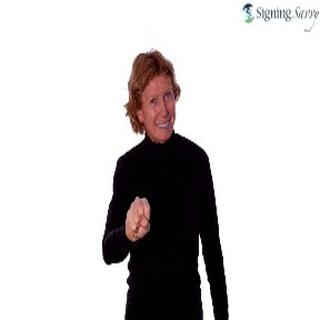yes: (114, 190, 156, 243)
